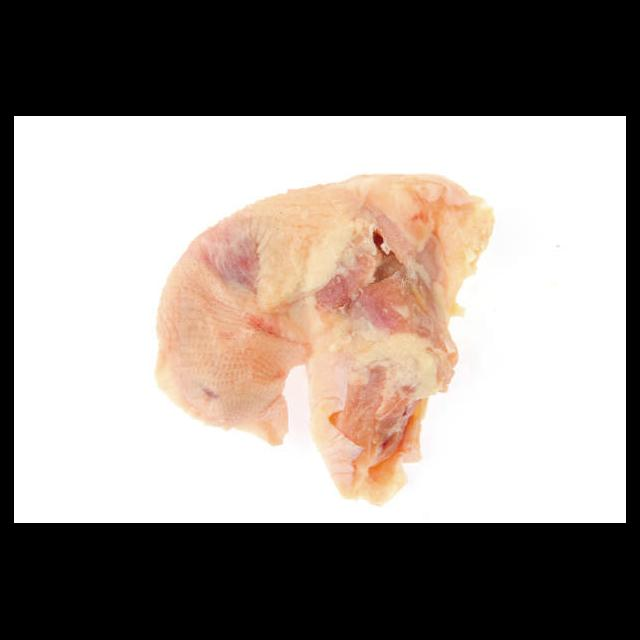chicken: (152, 168, 496, 516)
